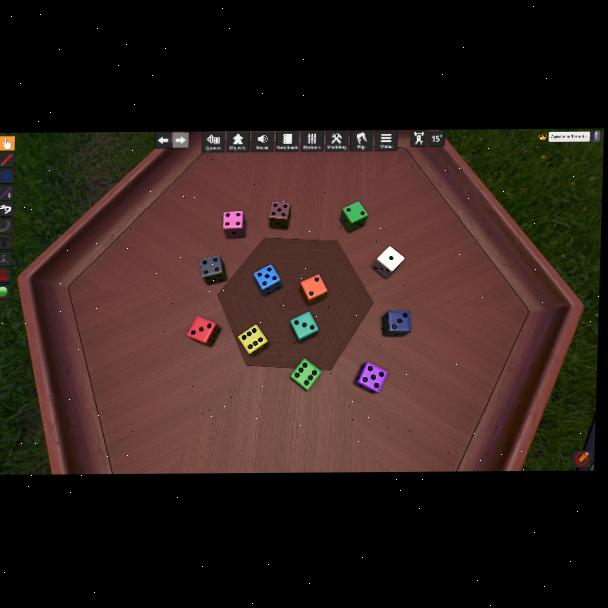d6: (353, 362, 386, 394), (374, 246, 405, 280), (237, 325, 269, 357), (290, 358, 322, 390), (187, 316, 220, 347), (253, 263, 283, 297), (289, 311, 319, 342), (299, 276, 328, 306), (199, 255, 227, 286), (340, 201, 367, 233), (382, 310, 411, 338), (221, 210, 245, 239), (267, 202, 290, 231)
